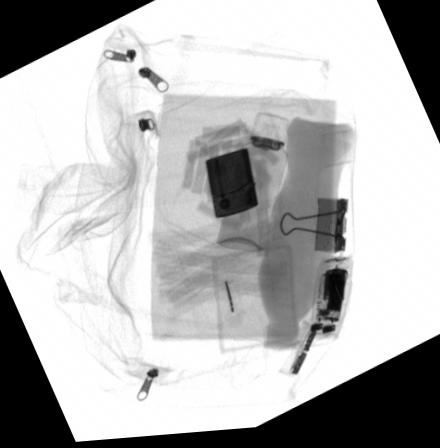Lighter: (205, 151, 258, 224)
Sprayer: (216, 117, 291, 256)
